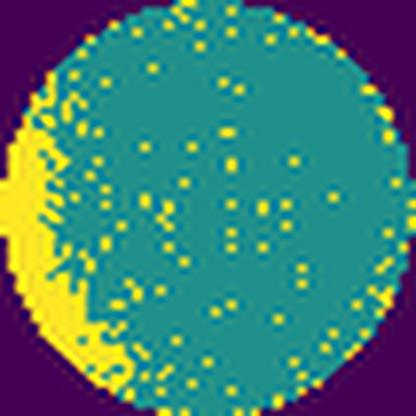Edge-Loc: (0, 70, 143, 401)
